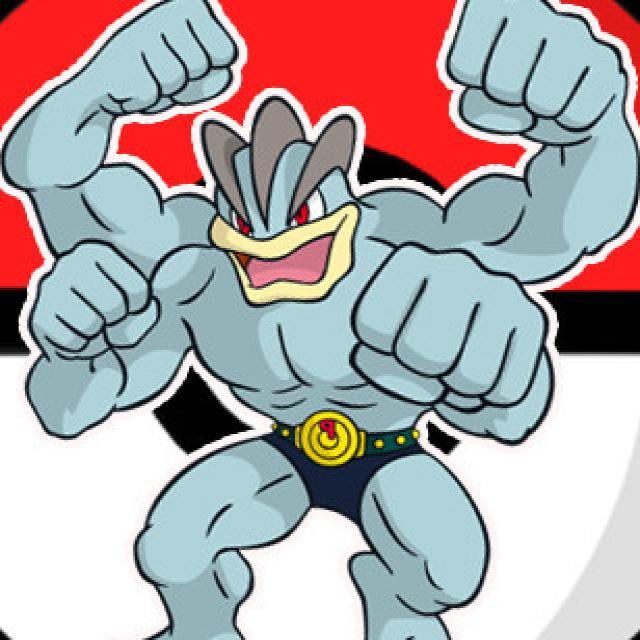Machamp: (91, 97, 556, 640)
